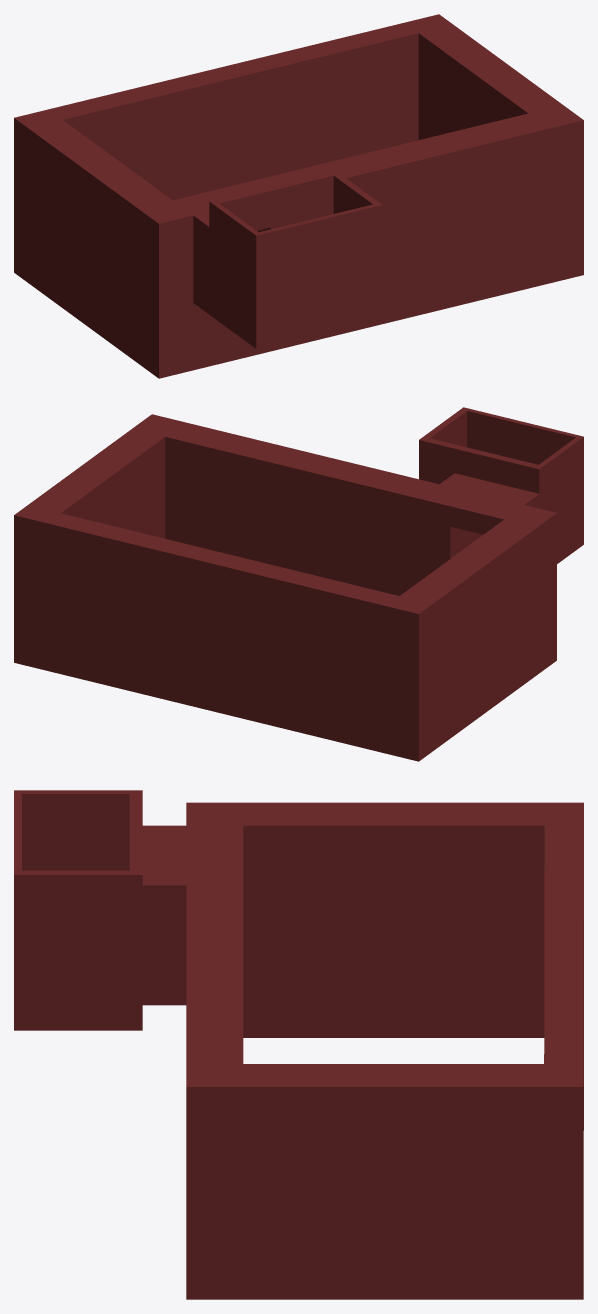
File: BarStructure.fbx
3 views of the same model, one above another, from view 1: azimuth 30°, elevation 25°; view 2: azimuth 150°, elevation 25°; view 3: azimuth 270°, elevation 25° (orthographic). The views are drawn at different scales.
Parts seen in each view (by area): view 1: Cube__2_; view 2: Cube__2_; view 3: Cube__2_.
Boxes of the visible parts, x1,y1,x2,y2 form: Cube__2_: [14, 14, 583, 378]; Cube__2_: [14, 407, 583, 761]; Cube__2_: [14, 790, 583, 1299].
Size of the model in its own units: 2012 by 817 by 1704.
